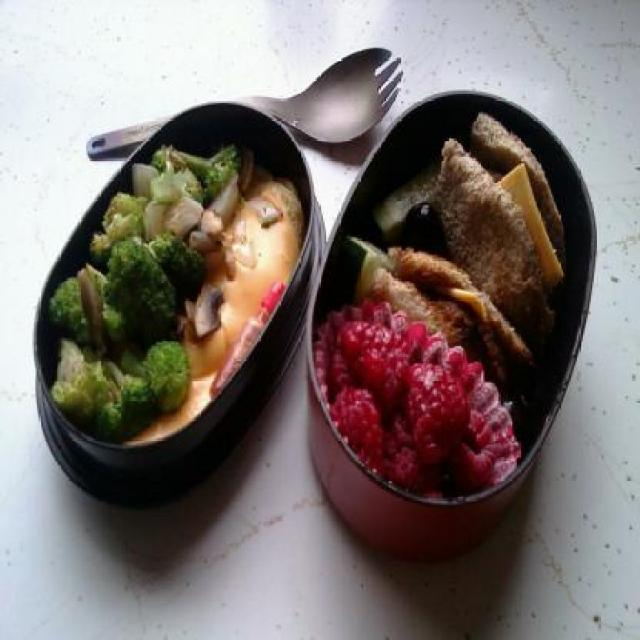Broccoli: (49, 147, 240, 440)
